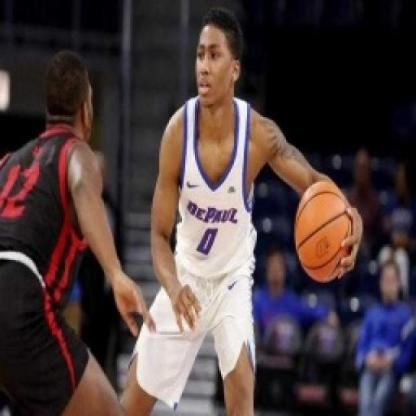basketball: (290, 176, 358, 288)
